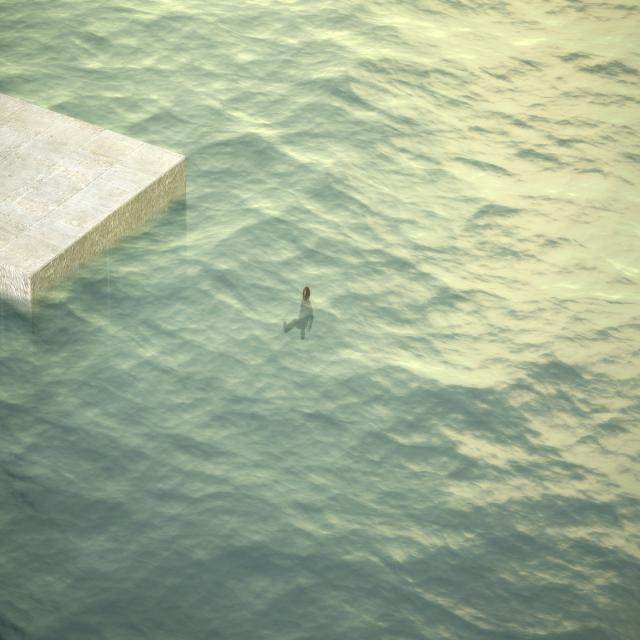Human: (278, 285, 316, 344)
